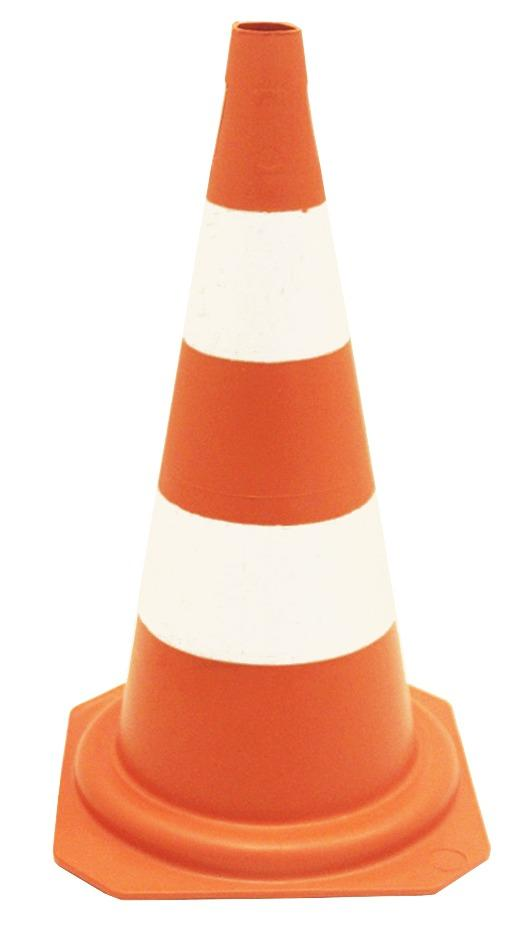traffic_cone: (53, 19, 491, 900)
